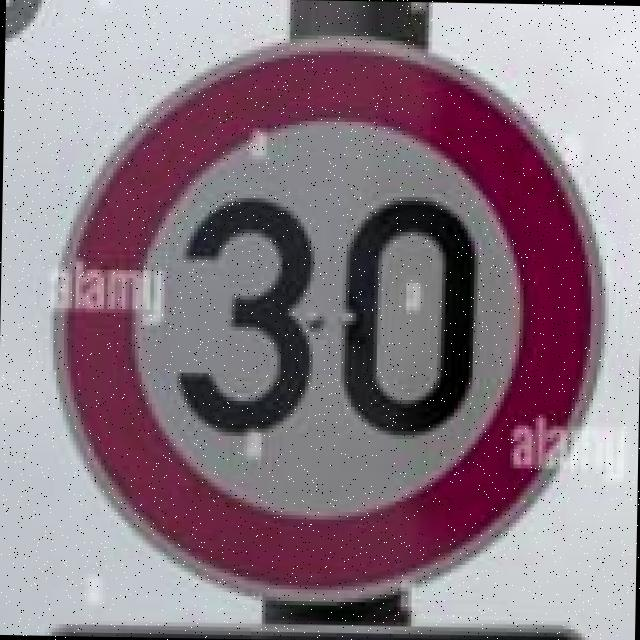Ograniczenie predkosci do 30: (59, 42, 592, 590)
